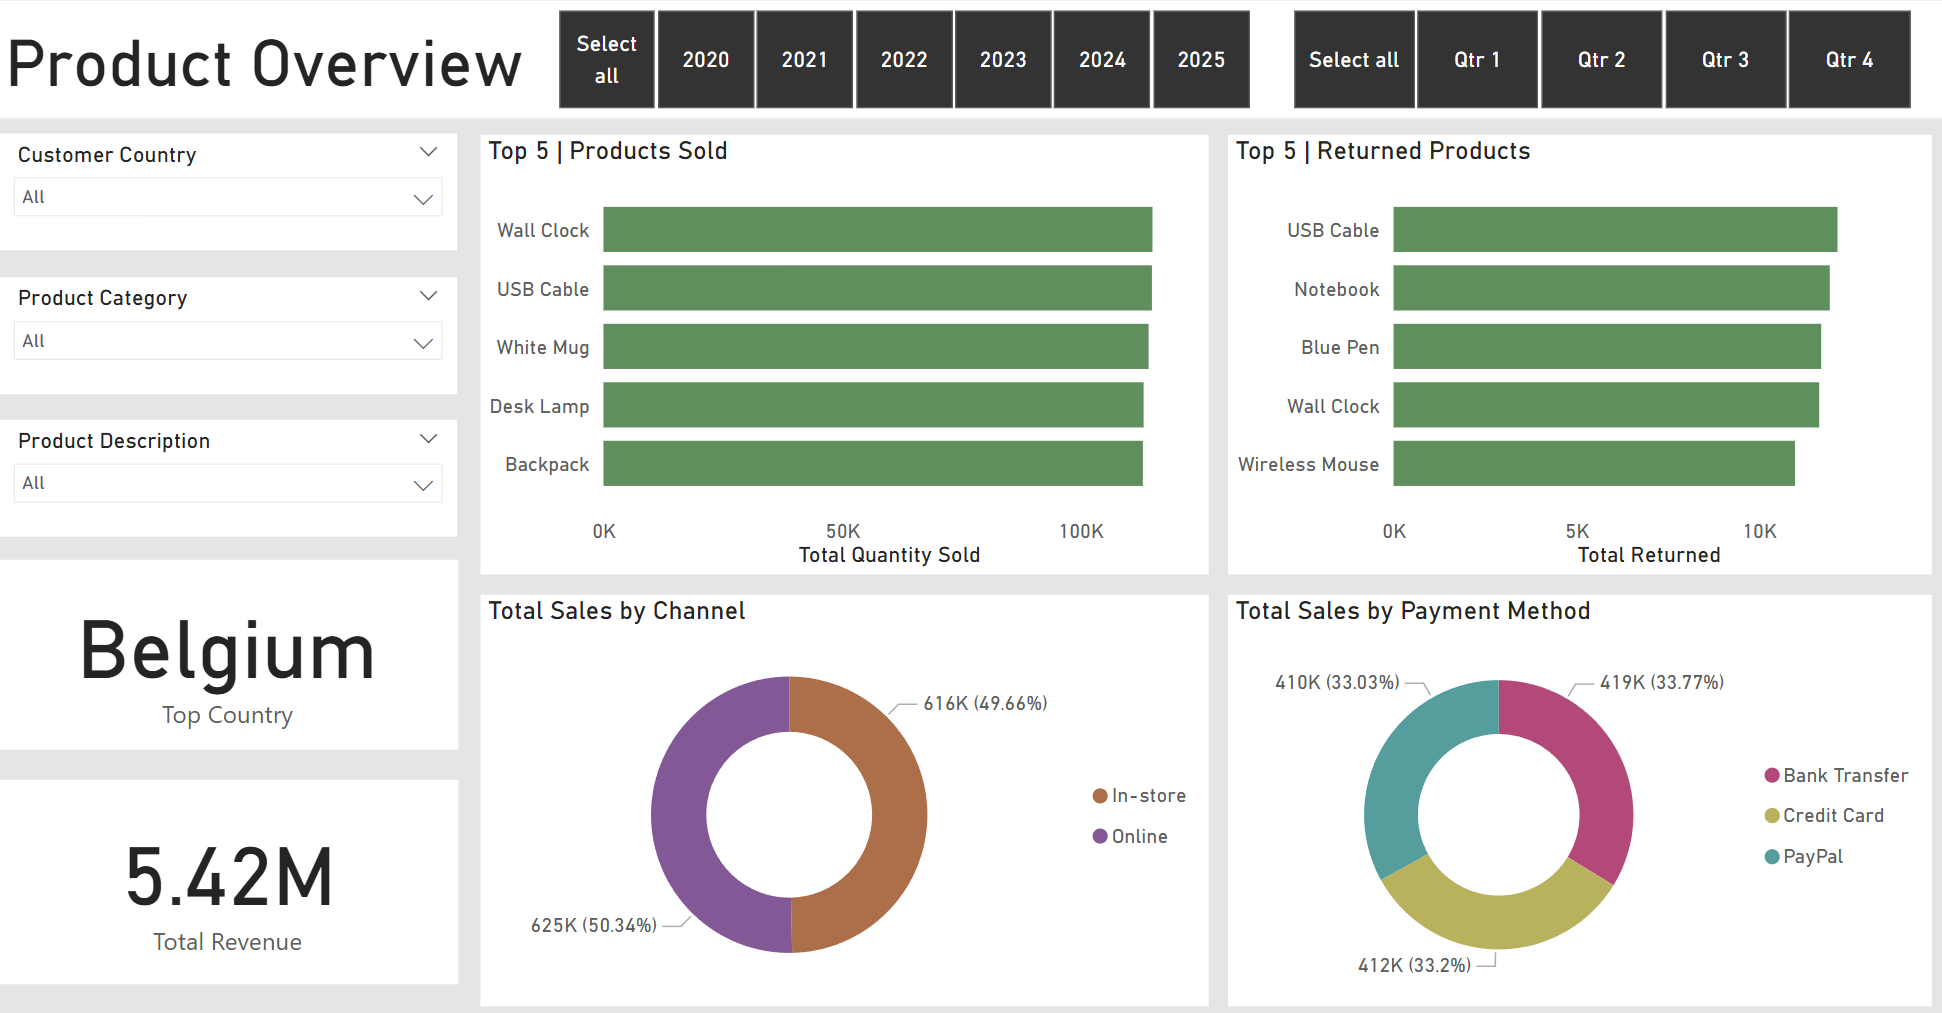

The page's visual inventory and layout, read from the dashboard file:
{"tool":"powerbi","page":{"name":"Product Overview","canvas":[1280,720],"ordinal":1},"visuals":[{"type":"textbox","box":[0,45.2,1280.3,78.3],"z":0},{"type":"slicer","fields":{"Values":["Online_Sales_Final.Country"]},"box":[0,133.1,301.9,76.8],"z":1000},{"type":"slicer","fields":{"Values":["Online_Sales_Final.Category"]},"box":[0,227.8,301.9,76.8],"z":2000},{"type":"slicer","fields":{"Values":["Online_Sales_Final.Description"]},"box":[0,321.1,301.9,76.8],"z":3000},{"type":"slicer","fields":{"Values":["Online_Sales_Final.Order Date.Variación.Jerarquía de fechas.Año"]},"box":[342.4,45.2,503.8,78.3],"z":4000},{"type":"slicer","fields":{"Values":["Online_Sales_Final.Order Date.Variación.Jerarquía de fechas.Trimestre"]},"box":[825.4,45.2,454.9,78.3],"z":5000},{"type":"actionButton","box":[0,0,100,40],"z":9000},{"type":"card","fields":{"Values":["Online_Sales_Final.Top Country by Revenue"]},"box":[0,422.9,302.3,125],"z":9001},{"type":"card","fields":{"Values":["Online_Sales_Final.Top Country Revenue"]},"box":[0,557.6,302,134.5],"z":9002},{"type":"clusteredBarChart","title":"Top 5 | Products Sold","fields":{"Y":["Online_Sales_Final.Total Quantity Sold"],"Category":["Online_Sales_Final.Description"]},"box":[316.8,133.7,478.1,289.2],"z":9004},{"type":"clusteredBarChart","title":"Top 5 | Returned Products","fields":{"Category":["Online_Sales_Final.Description"],"Y":["Online_Sales_Final.Total Returned"]},"box":[808,133.7,462.1,289.2],"z":9005},{"type":"donutChart","title":"Total Sales by Channel","fields":{"Series":["Online_Sales_Final.Sales Channel"],"Y":["Online_Sales_Final.Total Quantity Sold"]},"box":[316.8,436,478.1,270.3],"z":9006},{"type":"donutChart","title":"Total Sales by Payment Method","fields":{"Series":["Online_Sales_Final.Payment Method"],"Y":["Online_Sales_Final.Total Quantity Sold"]},"box":[808,436,462.1,270.3],"z":9007}]}

Visuals, with their boxes on the page's 1280x720 design canvas (x1, y1, x2, y2). These are canvas units, not pixel positions in the 1942x1013 screenshot, which may show the page scaled, cropped or inside an application window:
textbox: <region>0, 45, 1280, 124</region>
slicer - Online_Sales_Final.Country: <region>0, 133, 302, 210</region>
slicer - Online_Sales_Final.Category: <region>0, 228, 302, 305</region>
slicer - Online_Sales_Final.Description: <region>0, 321, 302, 398</region>
slicer - Online_Sales_Final.Order Date.Variación.Jerarquía de fechas.Año: <region>342, 45, 846, 124</region>
slicer - Online_Sales_Final.Order Date.Variación.Jerarquía de fechas.Trimestre: <region>825, 45, 1280, 124</region>
actionButton: <region>0, 0, 100, 40</region>
card - Online_Sales_Final.Top Country by Revenue: <region>0, 423, 302, 548</region>
card - Online_Sales_Final.Top Country Revenue: <region>0, 558, 302, 692</region>
"Top 5 | Products Sold" clusteredBarChart: <region>317, 134, 795, 423</region>
"Top 5 | Returned Products" clusteredBarChart: <region>808, 134, 1270, 423</region>
"Total Sales by Channel" donutChart: <region>317, 436, 795, 706</region>
"Total Sales by Payment Method" donutChart: <region>808, 436, 1270, 706</region>
